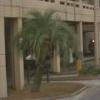Palm tree: (17, 8, 79, 99)
